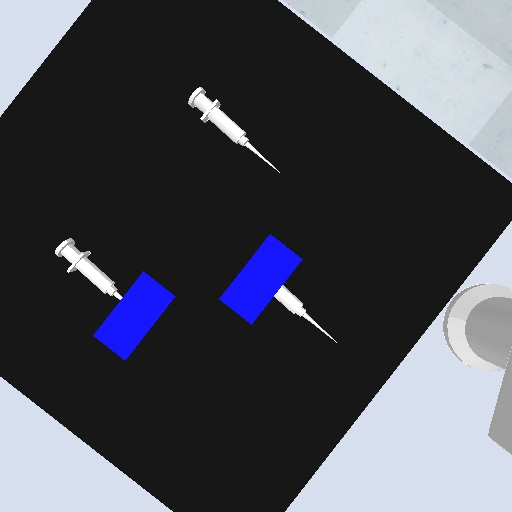jeringuilla: (185, 85, 286, 175), (52, 236, 126, 303), (272, 283, 341, 348)
